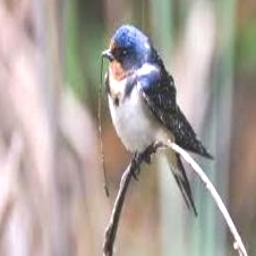Swallow: (101, 26, 214, 217)
